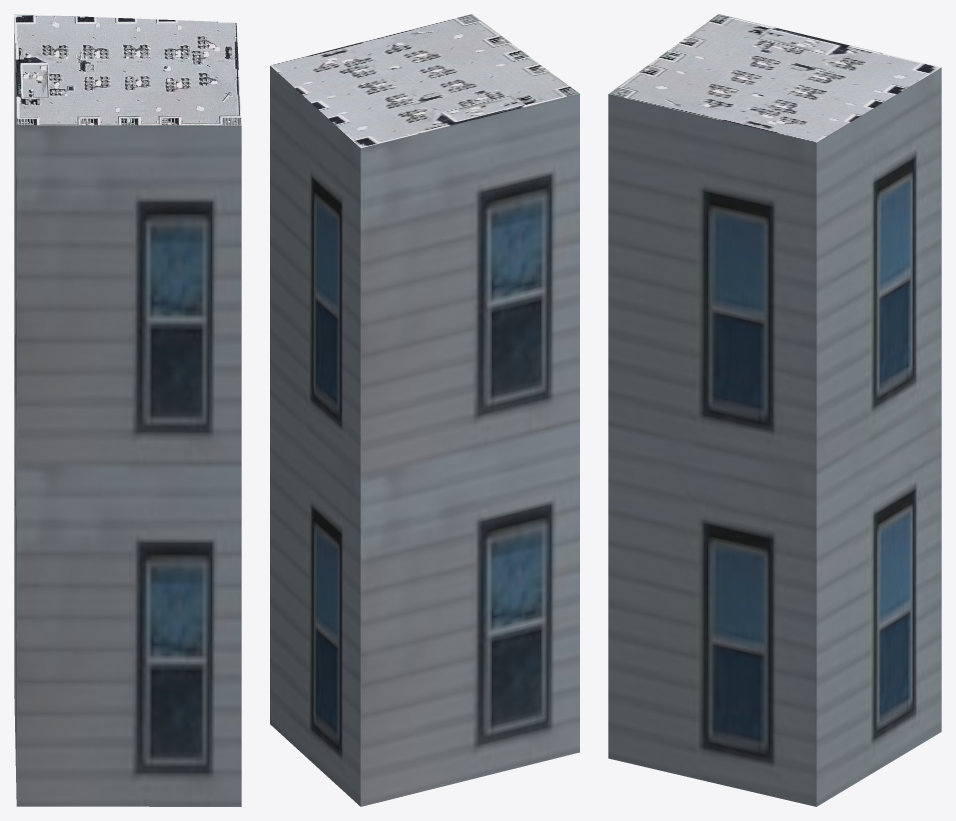
The model's file is ResTex__3733.fbx.
3 renders of one model, left to right at view 1: azimuth 30°, elevation 25°; view 2: azimuth 150°, elevation 25°; view 3: azimuth 270°, elevation 25°, orthographic. The views are drawn at different scales.
Parts seen in each view (by area): view 1: CityEngineMaterial_18_m, CityEngineMaterial_m; view 2: CityEngineMaterial_18_m, CityEngineMaterial_m; view 3: CityEngineMaterial_18_m, CityEngineMaterial_m.
Boxes of the visible parts, x1=… form: CityEngineMaterial_18_m: x1=14, y1=17, x2=241, y2=806; CityEngineMaterial_m: x1=14, y1=14, x2=241, y2=125; CityEngineMaterial_18_m: x1=270, y1=66, x2=579, y2=806; CityEngineMaterial_m: x1=270, y1=14, x2=579, y2=147; CityEngineMaterial_18_m: x1=608, y1=67, x2=941, y2=806; CityEngineMaterial_m: x1=609, y1=14, x2=941, y2=142.
Bounding box in the file's own units: 2.49 × 6 × 2.73.
2 materials, 2 textured.
